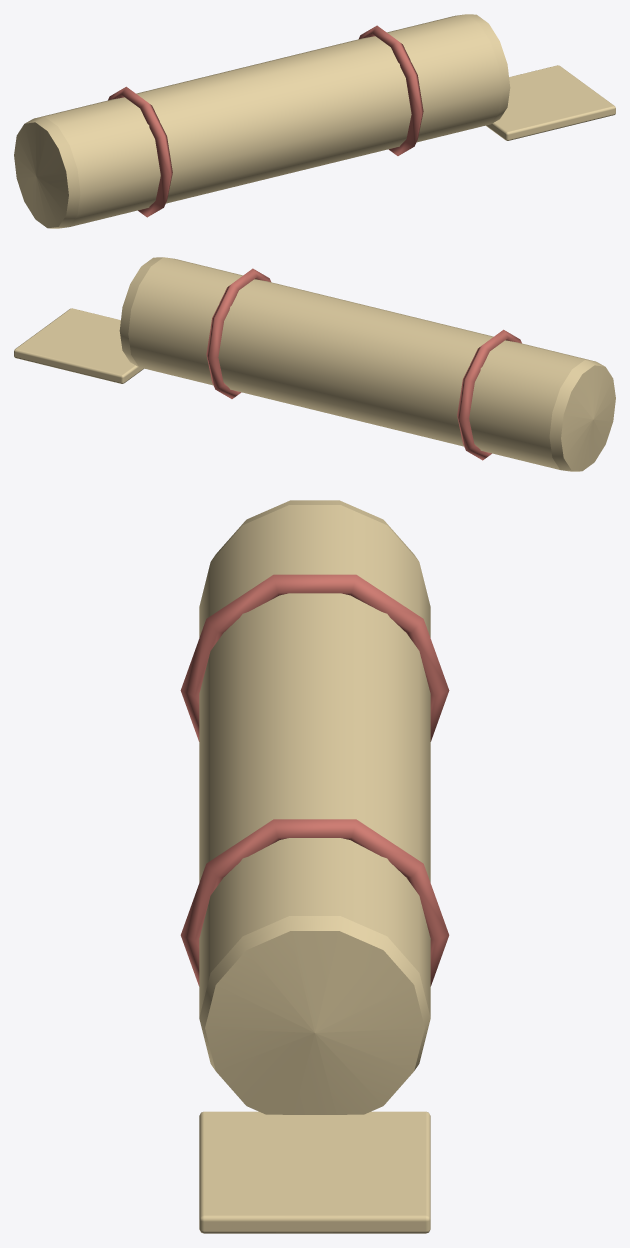
File: matting-roll-c9f30d9f.glb
The picture shows the model from 3 angles, top to bottom: view 1: azimuth 30°, elevation 25°; view 2: azimuth 150°, elevation 25°; view 3: azimuth 270°, elevation 25°; orthographic projection. The views are drawn at different scales.
Parts seen in each view (by area): view 1: matting-roll; view 2: matting-roll; view 3: matting-roll.
Part boxes in pixels (x1,y1,x2,y2): matting-roll: (14,14,615,228); matting-roll: (14,257,615,471); matting-roll: (180,500,449,1233).
Bounding box in the file's own units: 2.2 × 0.4413 × 0.464.
